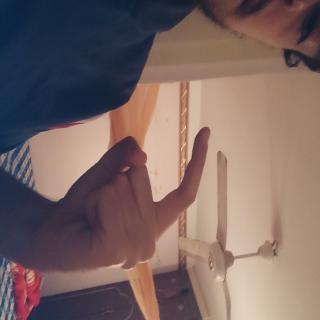RAA: (91, 142, 218, 320)
